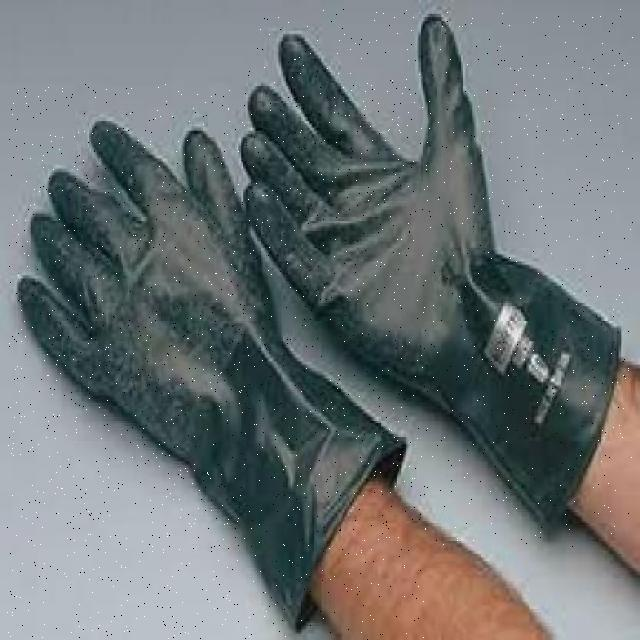gloves: (14, 110, 415, 640), (233, 13, 623, 547)
